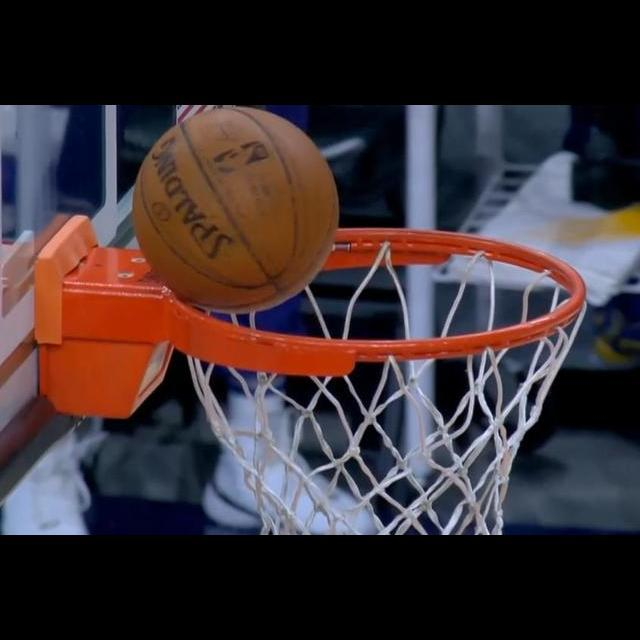basketball: (135, 107, 337, 313)
rim: (156, 227, 586, 535)
